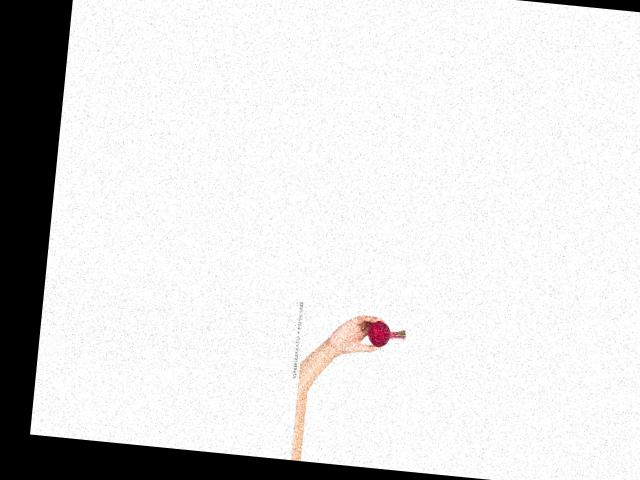beet: (366, 319, 407, 348)
